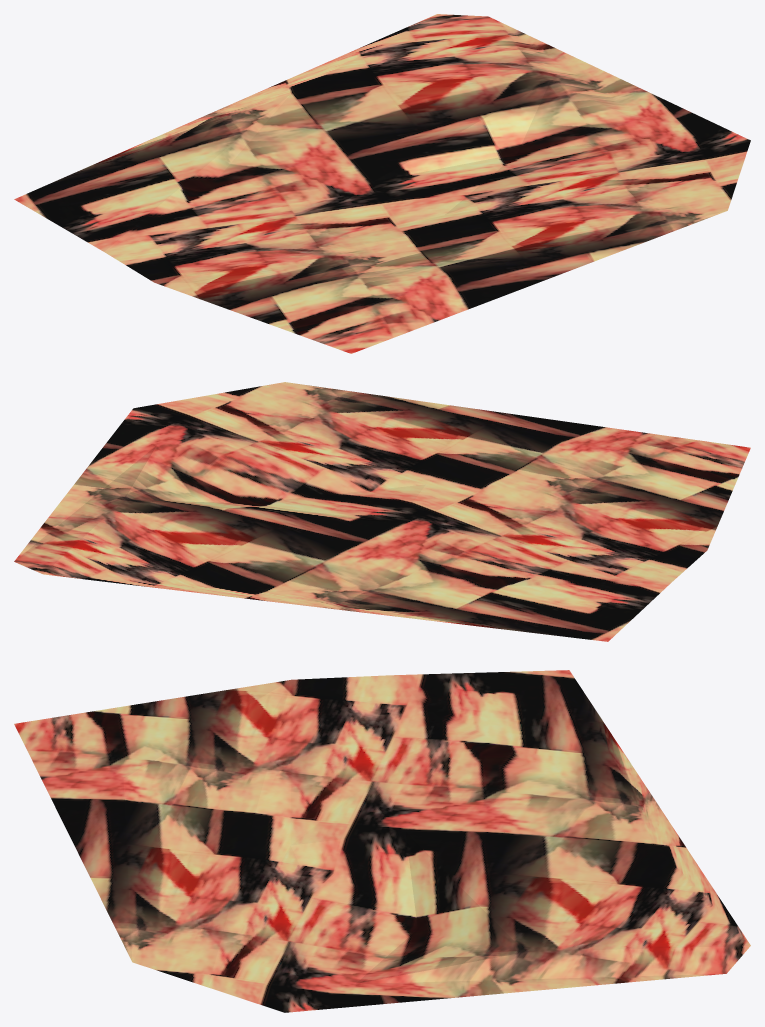
Rendered from Island_2_Floor.gltf.
3 views of the same model, one above another, from view 1: azimuth 30°, elevation 25°; view 2: azimuth 150°, elevation 25°; view 3: azimuth 270°, elevation 25° (orthographic). The views are drawn at different scales.
Parts seen in each view (by area): view 1: Island_2_Floor; view 2: Island_2_Floor; view 3: Island_2_Floor.
Boxes of the visible parts, <box> form: Island_2_Floor: <box>14,14,750,353</box>; Island_2_Floor: <box>14,382,750,641</box>; Island_2_Floor: <box>14,670,750,1012</box>.
Bounding box in the file's own units: 27.36 × 0.8155 × 24.85.
Materials: 1 (1 with a texture image).
